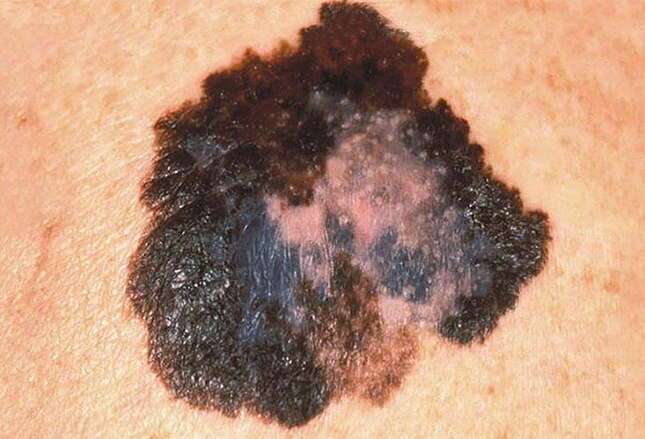melanoma: (121, 17, 555, 406)
